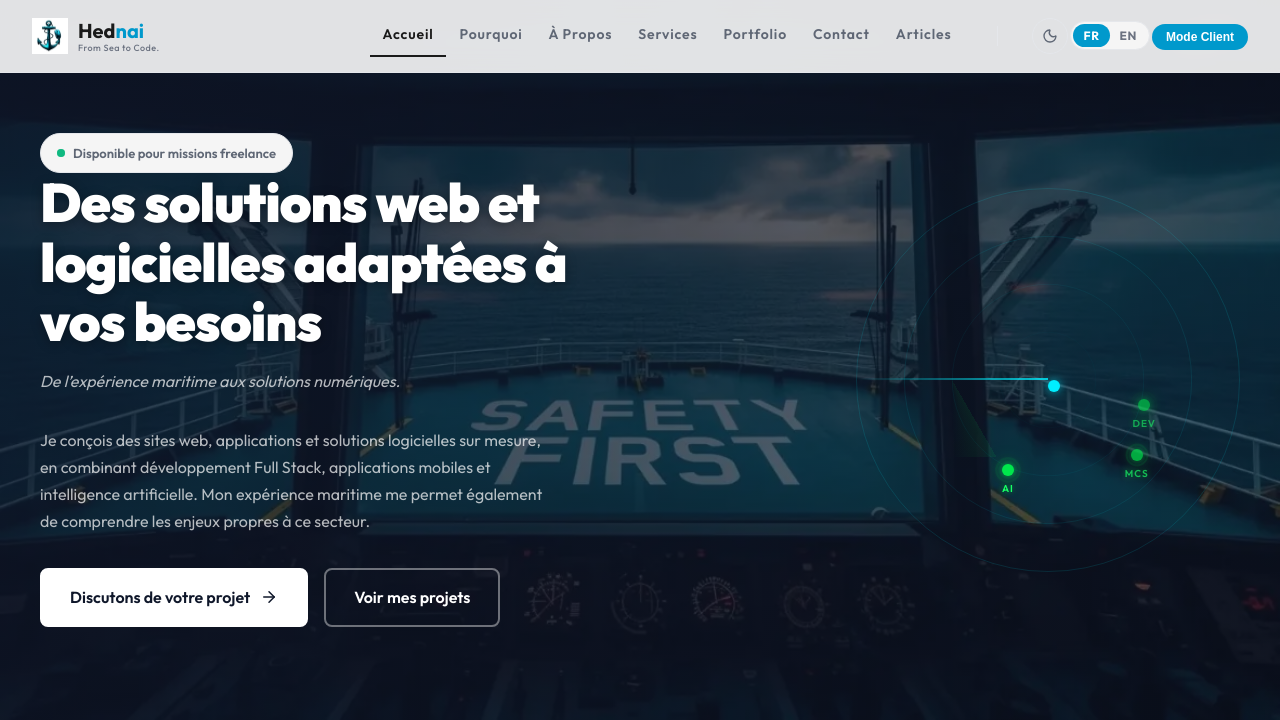
Test: Formulaire de contact › bascule entre onglet Email et WhatsApp
Click the link with class "btn--primary" at (174,598), box [40,568,308,627]
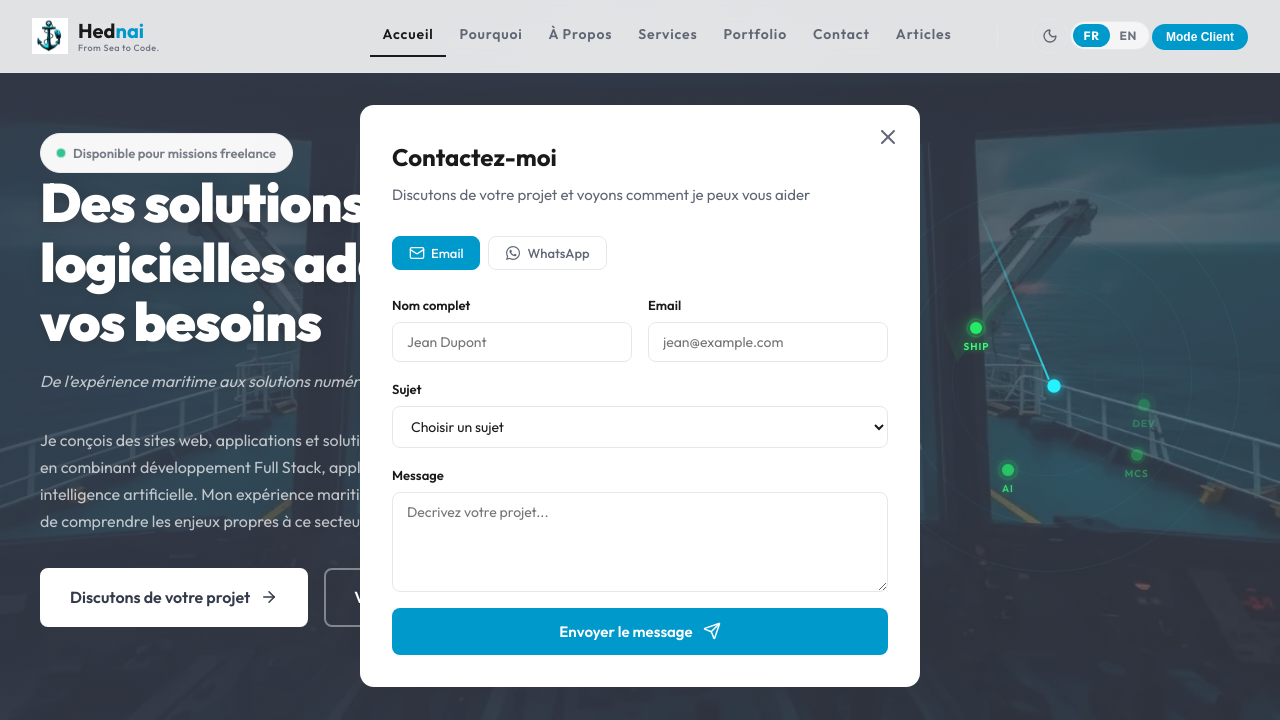
Check: the dialog with class "contact-modal__content" is shown, box [360,105,920,687]
Check: the button with class "cm__tab--active" reads "Email", box [392,236,481,270]
Click the button with class "cm__tab--whatsapp" at (548,253), box [489,236,607,270]
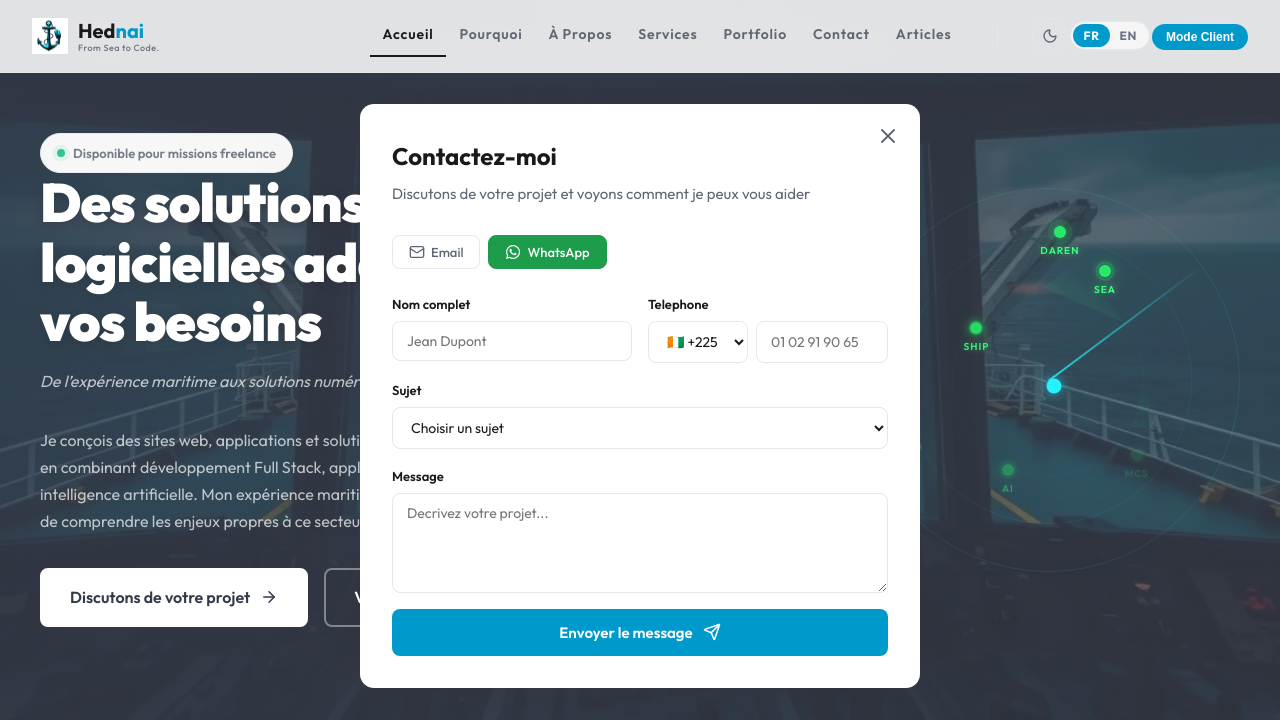
Check: the field labelled "Telephone" is shown, box [756,321,888,363]
Check: the label with id "email" is gone
Click the button with class "cm__tab" showing "Email" at (437,252), box [392,235,481,269]
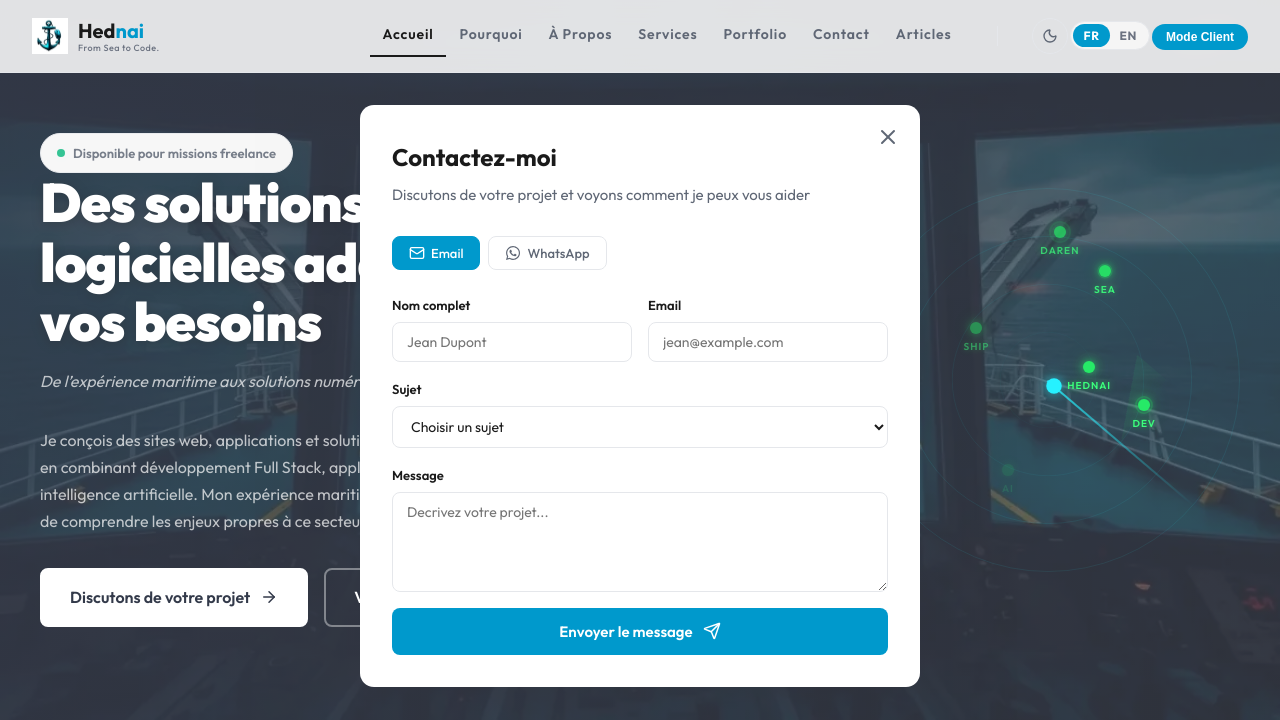
Check: the field with id "email" is shown, box [648,322,888,362]
